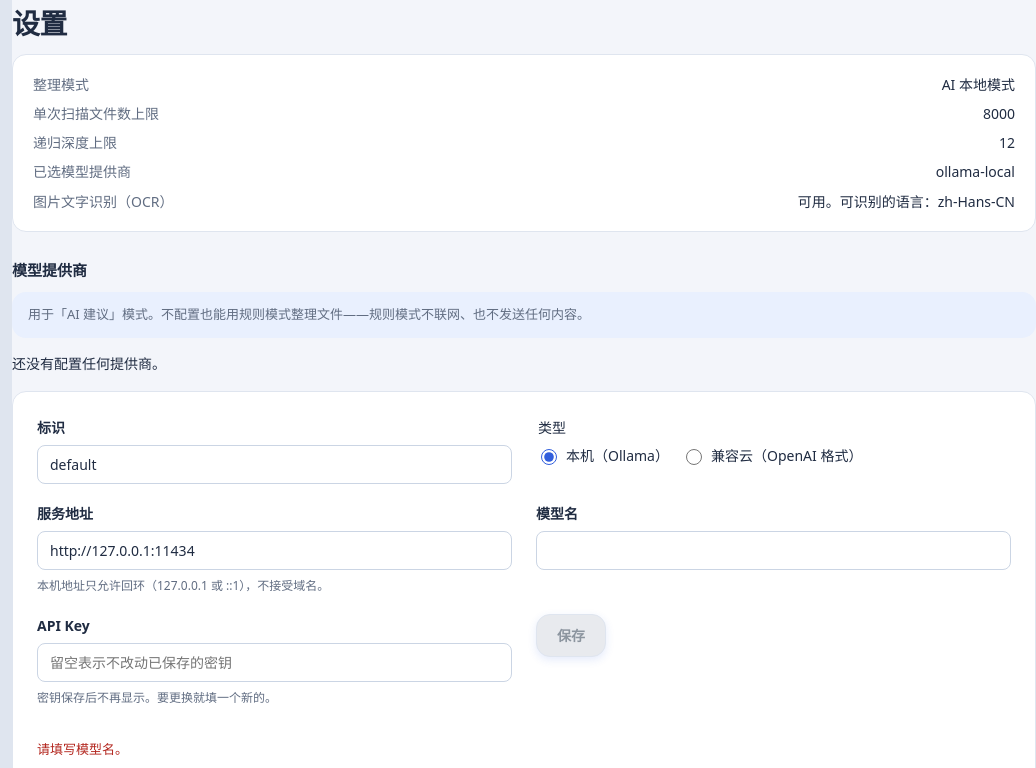
Scenario: 设置页 › 切到兼容云后提示必须用 HTTPS
The width and height of the screenshot is (1036, 768).
Click the radio button labelled "兼容云（OpenAI 格式）". click: coordinates (694, 457)
box: x1=686 y1=449 x2=702 y2=465
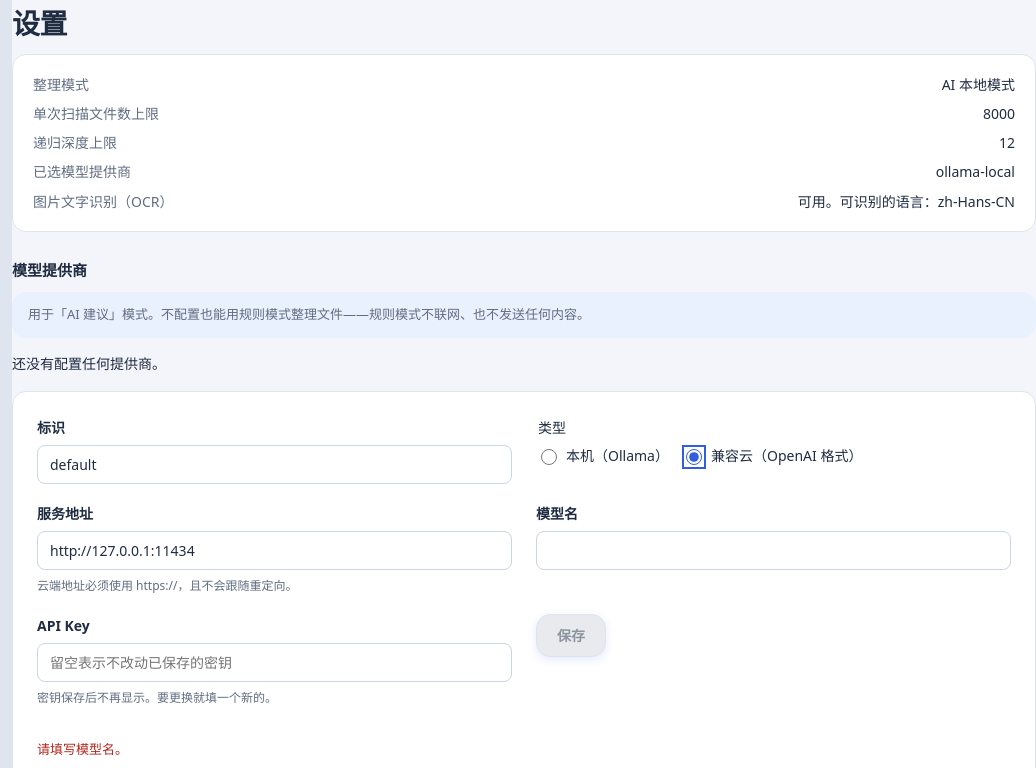
expect the text "云端地址必须使用 https://，且不会跟随重定向。" is shown: met, box x1=37 y1=577 x2=298 y2=594
